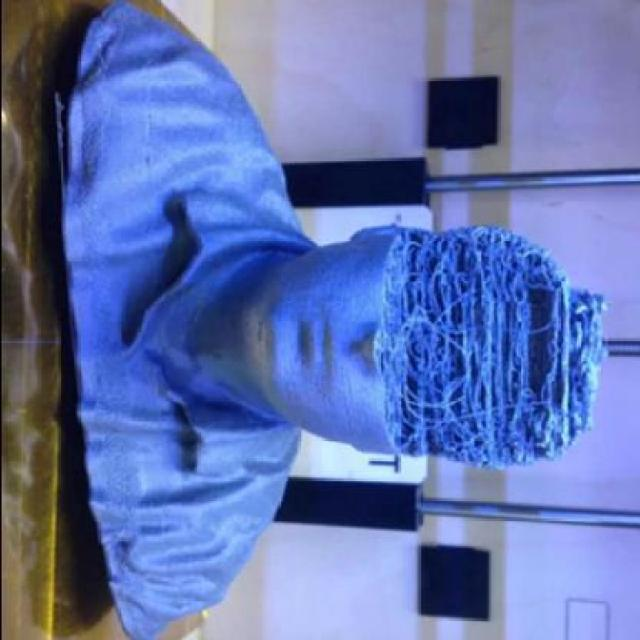Spaghetti: (360, 221, 612, 477)
